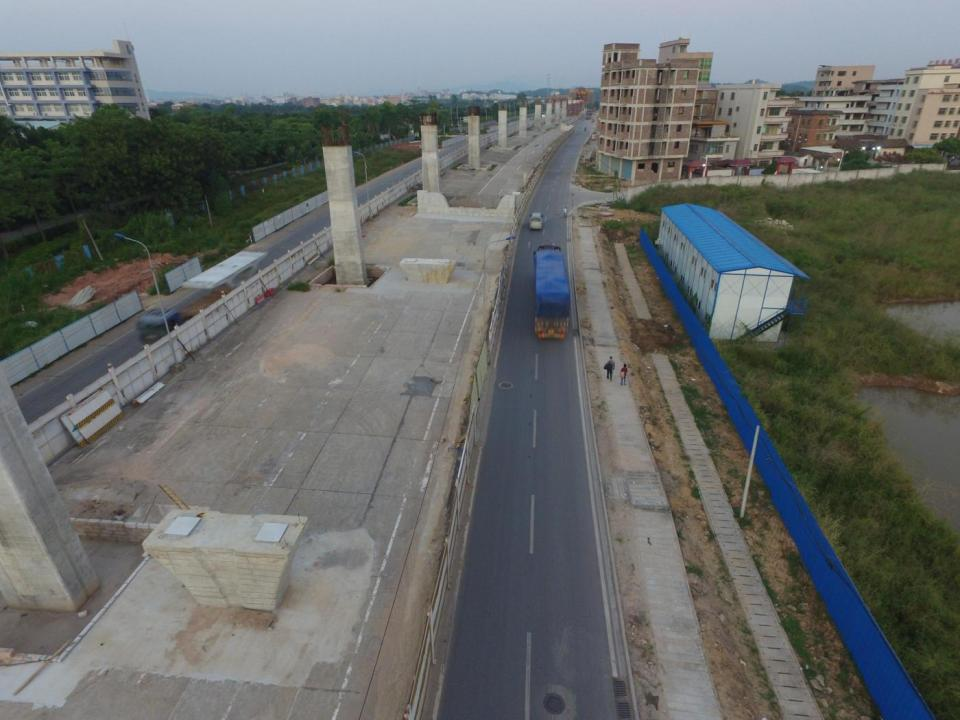truck: (136, 250, 269, 347), (534, 245, 569, 339)
van: (530, 213, 543, 229)
